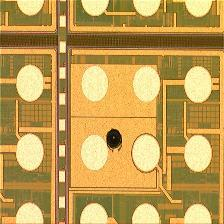PARTICLE: (103, 130, 126, 152)
